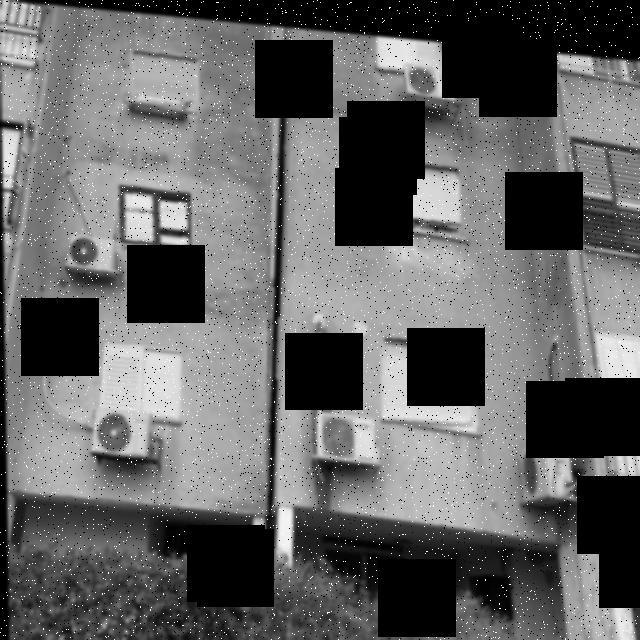Window: (379, 328, 478, 426), (95, 338, 181, 421), (382, 142, 461, 222), (108, 181, 191, 255), (124, 46, 198, 108), (378, 28, 456, 74)
